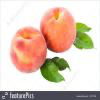Peach leaf: (40, 60, 66, 84), (73, 32, 97, 51), (50, 57, 71, 71), (74, 23, 93, 33)
